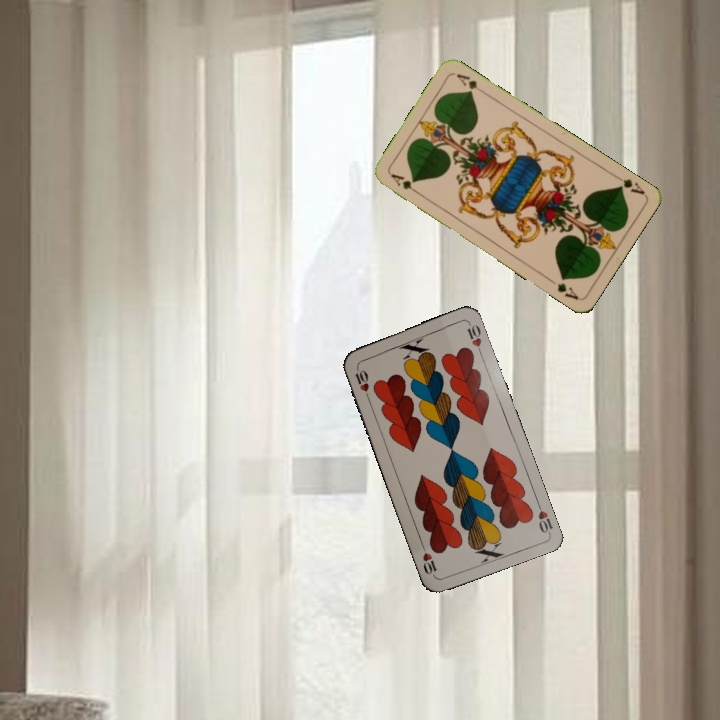GA: (610, 171, 648, 197), (387, 170, 423, 197)
H10: (532, 496, 555, 536), (351, 362, 372, 401)
